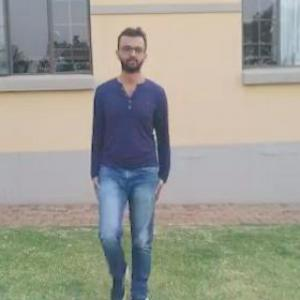follow: (84, 16, 170, 298)
